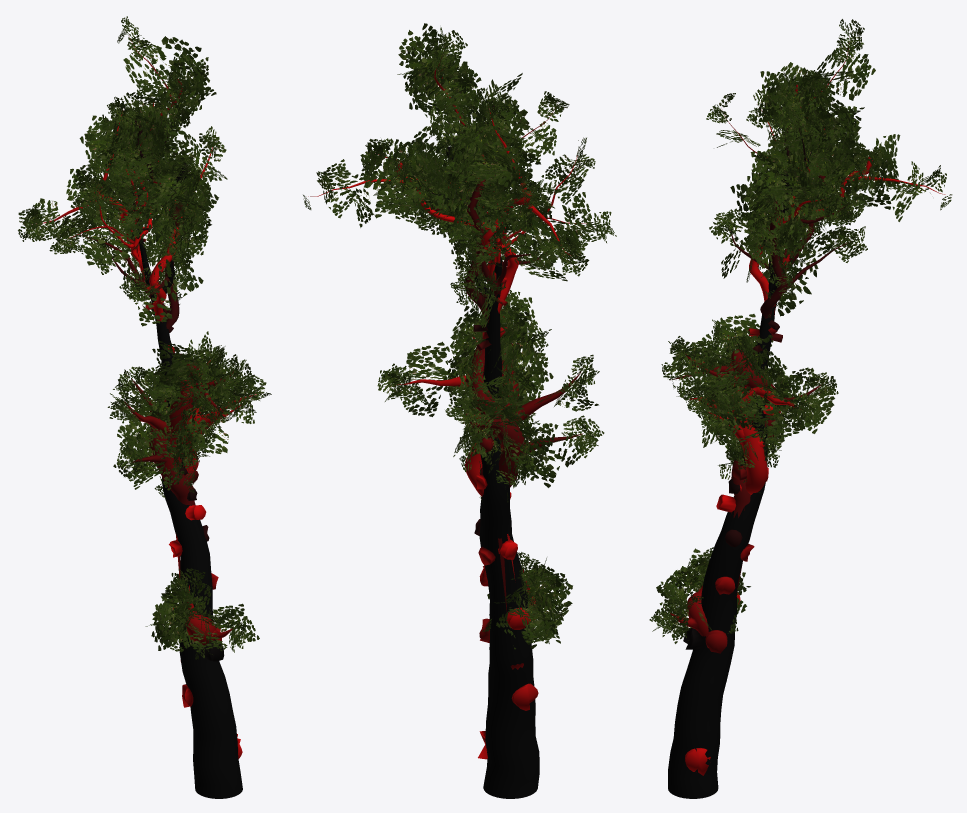
The model's file is Tree_22.fbx.
3 views of the same model, side by side, from view 1: azimuth 30°, elevation 25°; view 2: azimuth 150°, elevation 25°; view 3: azimuth 270°, elevation 25° (orthographic). The views are drawn at different scales.
Parts seen in each view (by area): view 1: Tree_18; view 2: Tree_18; view 3: Tree_18.
Boxes of the visible parts, x1,y1,x2,y2 form: Tree_18: [18, 16, 271, 798]; Tree_18: [303, 23, 616, 798]; Tree_18: [649, 19, 952, 798].
Bounding box in the file's own units: 1457 × 4790 × 1741.
